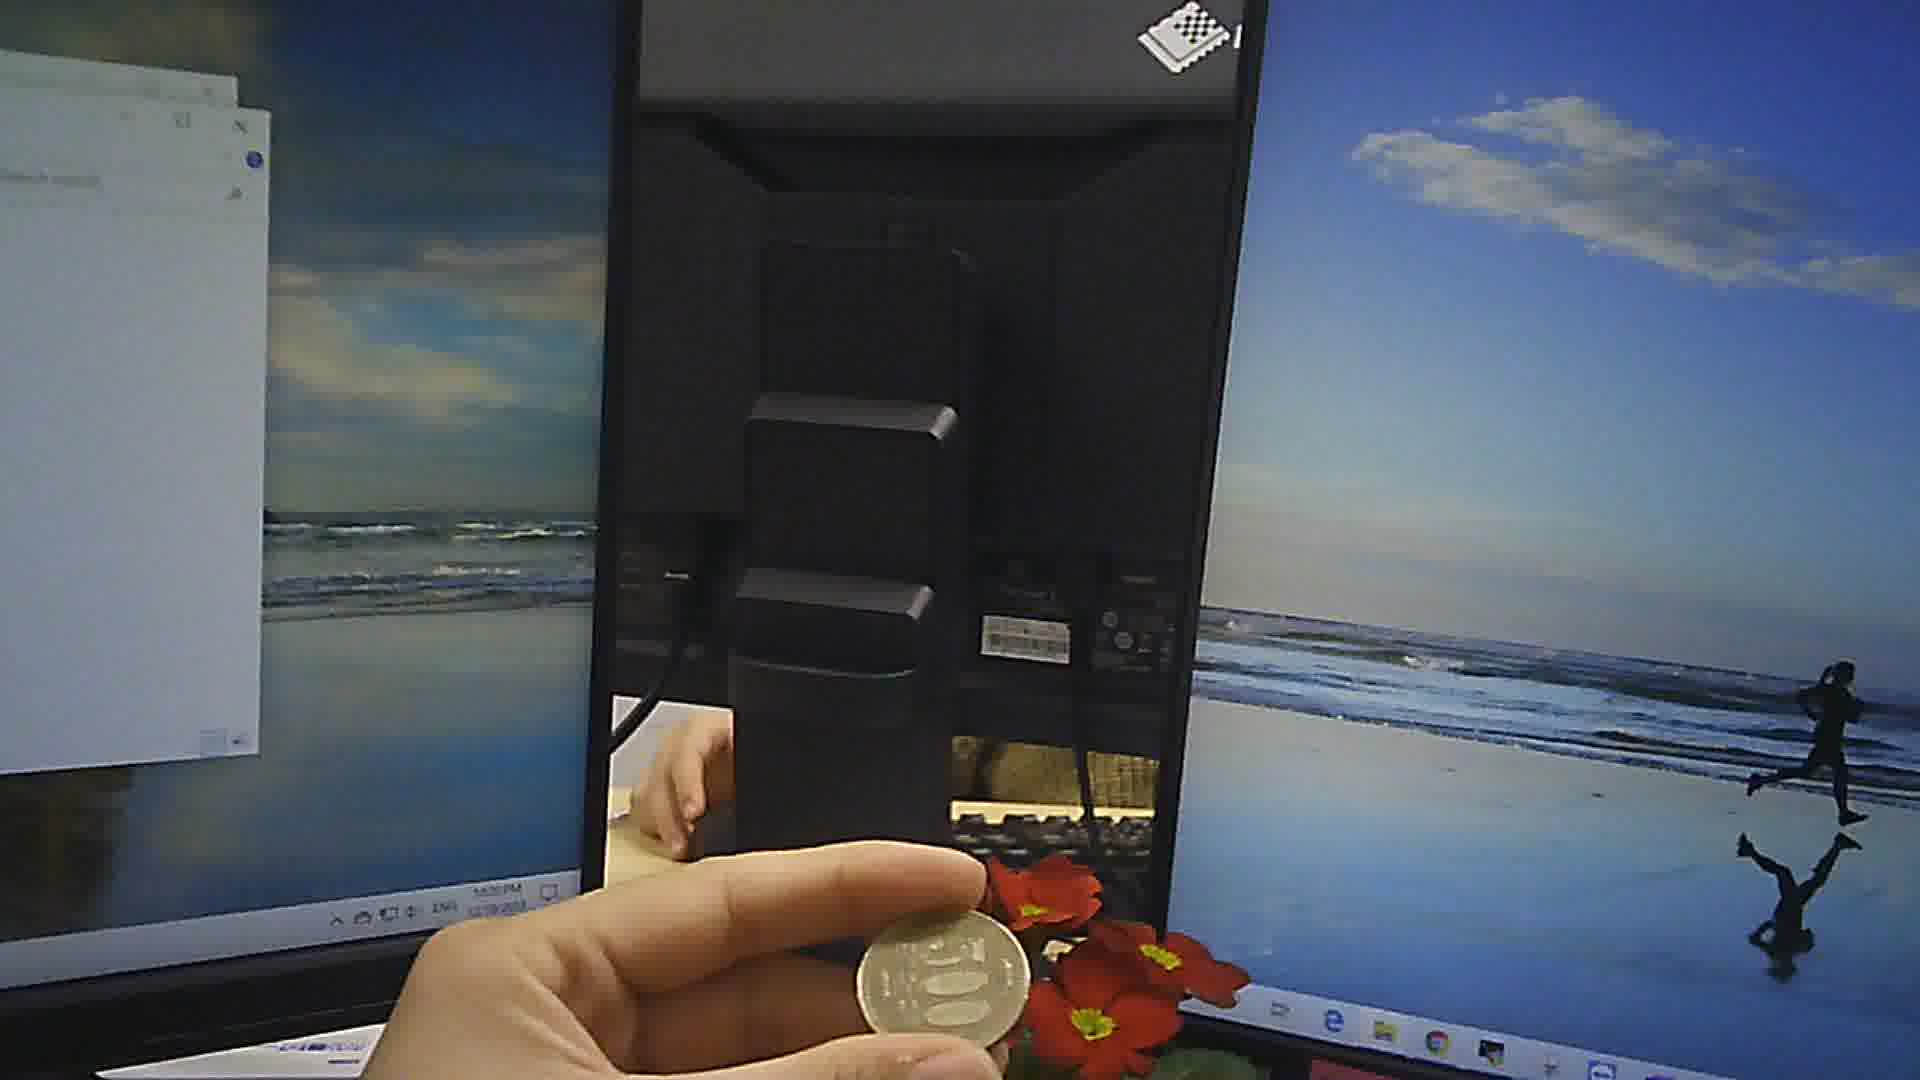500 Yen: (855, 902, 1029, 1042)
